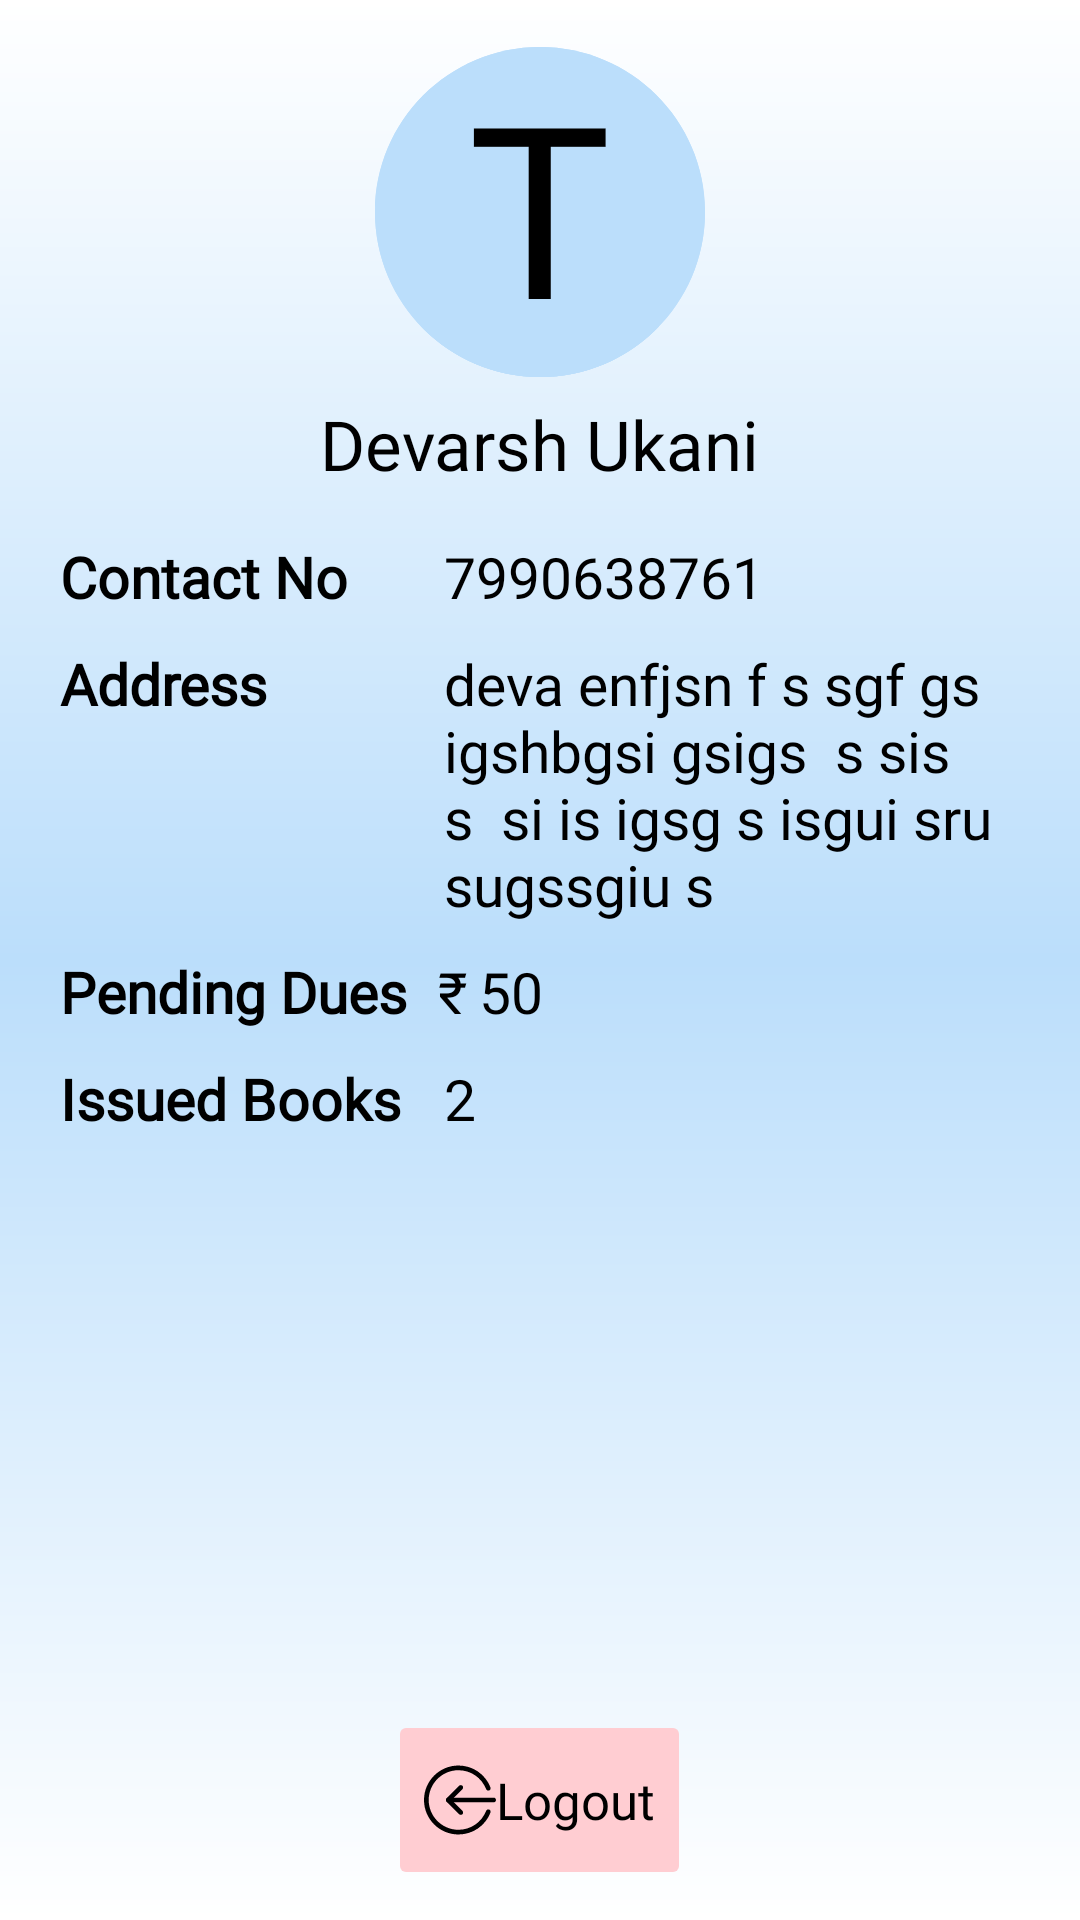

Point at icon controls on the screen. Image size 1080x1920, points as (x=x, y=y).
account: (x=540, y=212)
